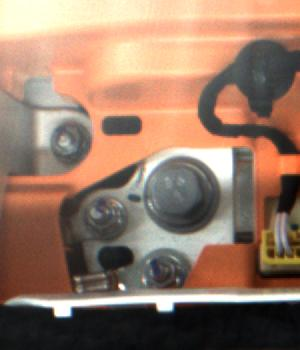nut_b: (142, 147, 222, 241)
screw_s: (139, 255, 181, 290), (47, 123, 82, 160), (82, 199, 117, 236)
